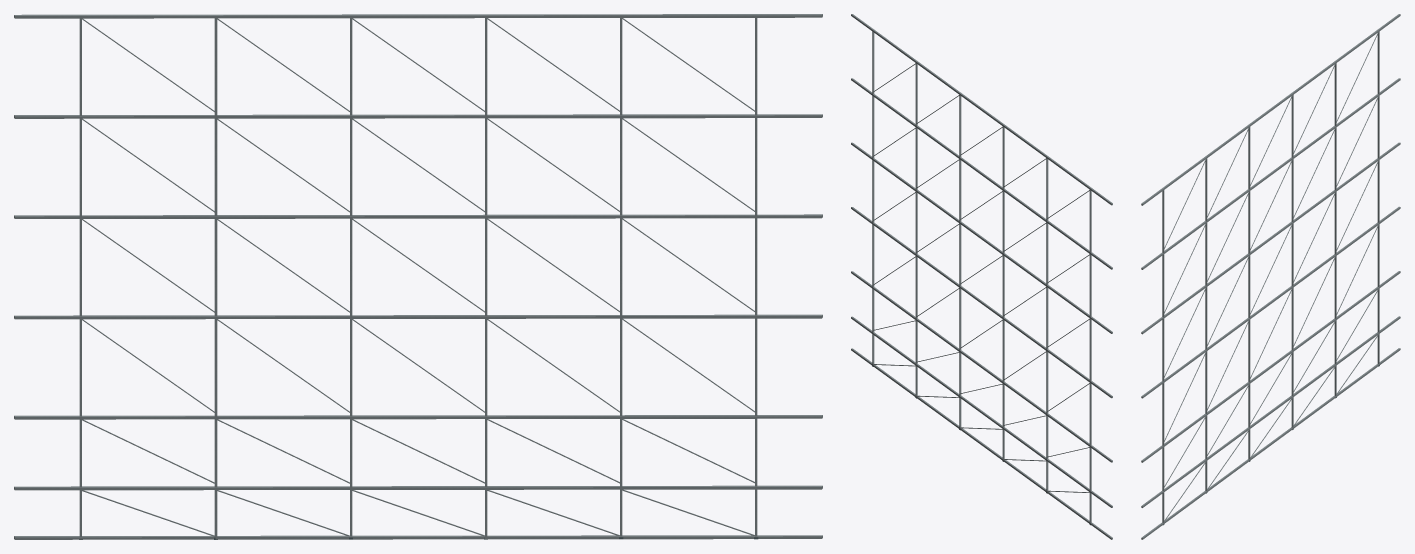
File: G7_Completion_Prior_G7_MiddleExterior_E14_r001.glb
The picture shows the model from 3 angles, left to right: view 1: azimuth 30°, elevation 25°; view 2: azimuth 150°, elevation 25°; view 3: azimuth 270°, elevation 25°; orthographic projection. The views are drawn at different scales.
Parts seen in each view (by area): view 1: G7_MiddleExterior_E14_frame; view 2: G7_MiddleExterior_E14_frame; view 3: G7_MiddleExterior_E14_frame.
Boxes of the visible parts, bbox=[...] form: G7_MiddleExterior_E14_frame: bbox=[14, 14, 822, 539]; G7_MiddleExterior_E14_frame: bbox=[851, 14, 1112, 539]; G7_MiddleExterior_E14_frame: bbox=[1141, 14, 1400, 539].
Bounding box in the file's own units: 53.97 × 44.5 × 31.11.
Materials: 2 (2 with a texture image).
